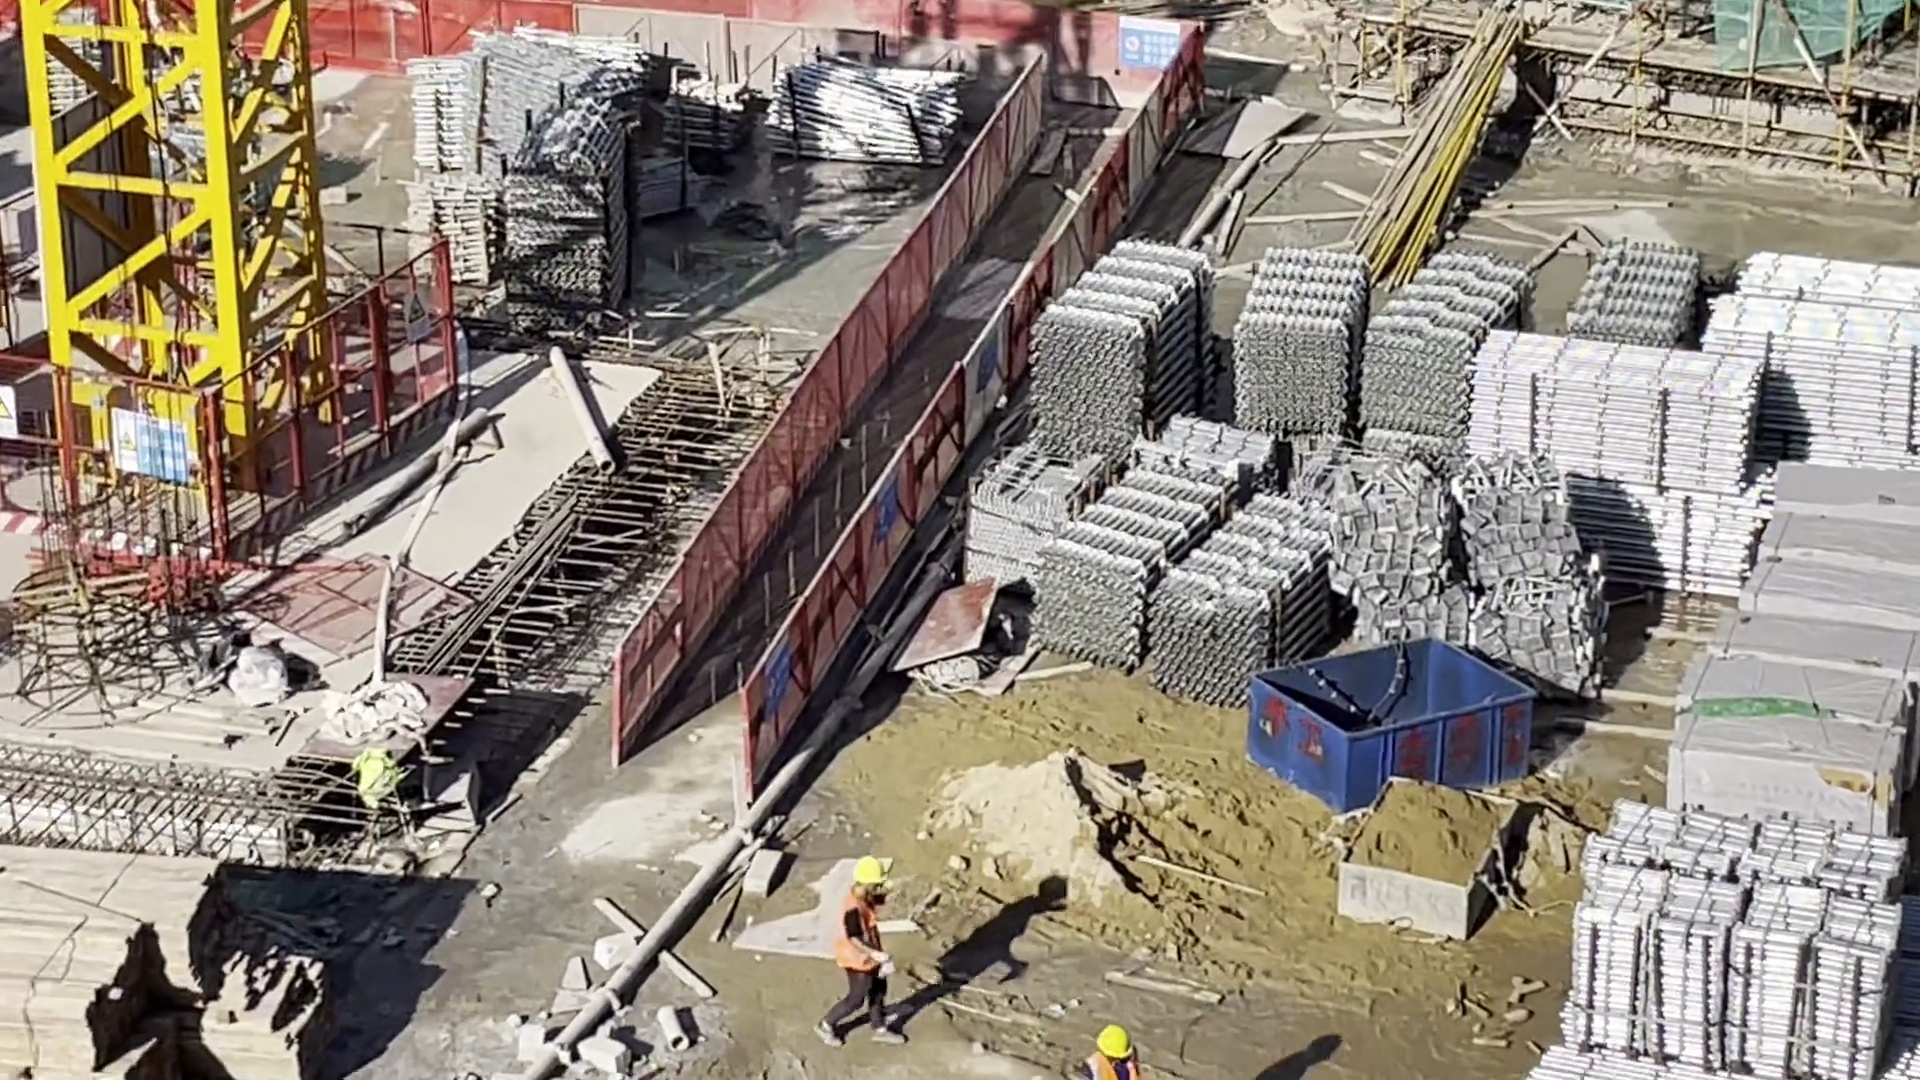fence: (621, 76, 1186, 793), (315, 6, 1117, 81)
helmet: (1098, 1027, 1133, 1058), (854, 857, 887, 883)
hopper: (1248, 634, 1535, 814), (1333, 779, 1519, 939)
person: (825, 861, 904, 1041), (1083, 1027, 1142, 1080)
scaffold: (1578, 806, 1902, 1080), (1477, 335, 1750, 588), (1038, 466, 1327, 685), (1239, 250, 1532, 439), (1711, 250, 1920, 469), (1035, 245, 1213, 447), (413, 29, 644, 177), (500, 113, 617, 337), (777, 58, 962, 164), (1571, 235, 1700, 362), (404, 174, 500, 283), (663, 81, 746, 158)
slogan: (109, 411, 190, 485), (1123, 14, 1178, 70), (874, 474, 897, 543), (765, 642, 785, 714), (401, 292, 429, 342), (1, 385, 16, 433)
vest: (843, 893, 892, 976), (1093, 1058, 1134, 1080)
